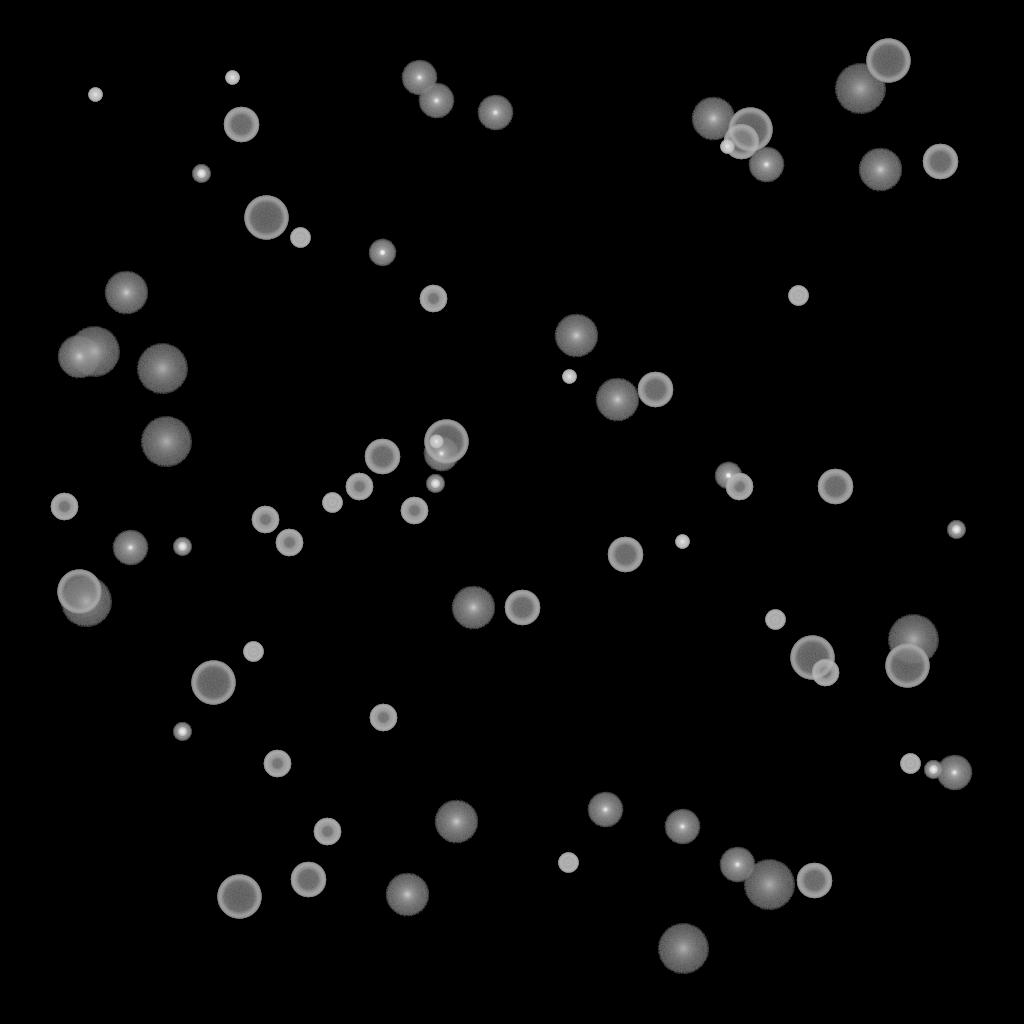depth:-10: (368, 239, 396, 267), (714, 462, 742, 490)
depth:-20: (192, 165, 210, 183), (947, 521, 965, 539), (173, 538, 191, 556), (173, 723, 191, 741), (426, 475, 444, 493), (924, 761, 942, 779)
depth:-30: (720, 140, 734, 154), (562, 370, 576, 384), (88, 88, 102, 102), (225, 71, 239, 85), (675, 535, 689, 549), (429, 435, 443, 449)
depth:-40: (765, 610, 785, 630), (322, 493, 342, 513), (788, 286, 808, 306), (243, 642, 263, 662), (558, 853, 578, 873), (900, 754, 920, 774), (290, 228, 310, 248)
depth:-50: (251, 506, 279, 534), (811, 659, 839, 687), (419, 285, 447, 313), (313, 818, 341, 846), (275, 529, 303, 557), (725, 473, 753, 501), (400, 497, 428, 525), (263, 750, 291, 778), (369, 704, 397, 732), (50, 493, 78, 521), (345, 473, 373, 501)
depth:-60: (223, 107, 259, 143), (796, 863, 832, 899), (922, 144, 958, 180), (290, 862, 326, 898), (723, 124, 759, 160), (504, 590, 540, 626), (364, 439, 400, 475), (637, 372, 673, 408), (817, 469, 853, 505), (607, 537, 643, 573)
depth:-70: (885, 644, 929, 688), (866, 39, 910, 83), (217, 875, 261, 919), (424, 420, 468, 464), (57, 570, 101, 614), (244, 196, 288, 240), (191, 661, 235, 705), (790, 636, 834, 680), (728, 108, 772, 152)
depth:0: (477, 95, 513, 131), (418, 83, 454, 119), (664, 809, 700, 845), (748, 147, 784, 183), (719, 847, 755, 883), (401, 60, 437, 96), (423, 436, 459, 472), (936, 755, 972, 791), (112, 530, 148, 566), (587, 792, 623, 828)
depth:10: (554, 314, 598, 358), (451, 586, 495, 630), (104, 271, 148, 315), (434, 800, 478, 844), (385, 873, 429, 917), (57, 335, 101, 379), (595, 378, 639, 422), (691, 97, 735, 141), (858, 148, 902, 192)
depth:20: (657, 924, 709, 974), (60, 577, 112, 627), (887, 615, 939, 665), (834, 64, 886, 114), (136, 344, 188, 394), (68, 327, 120, 377), (743, 860, 795, 910), (140, 417, 192, 467)
